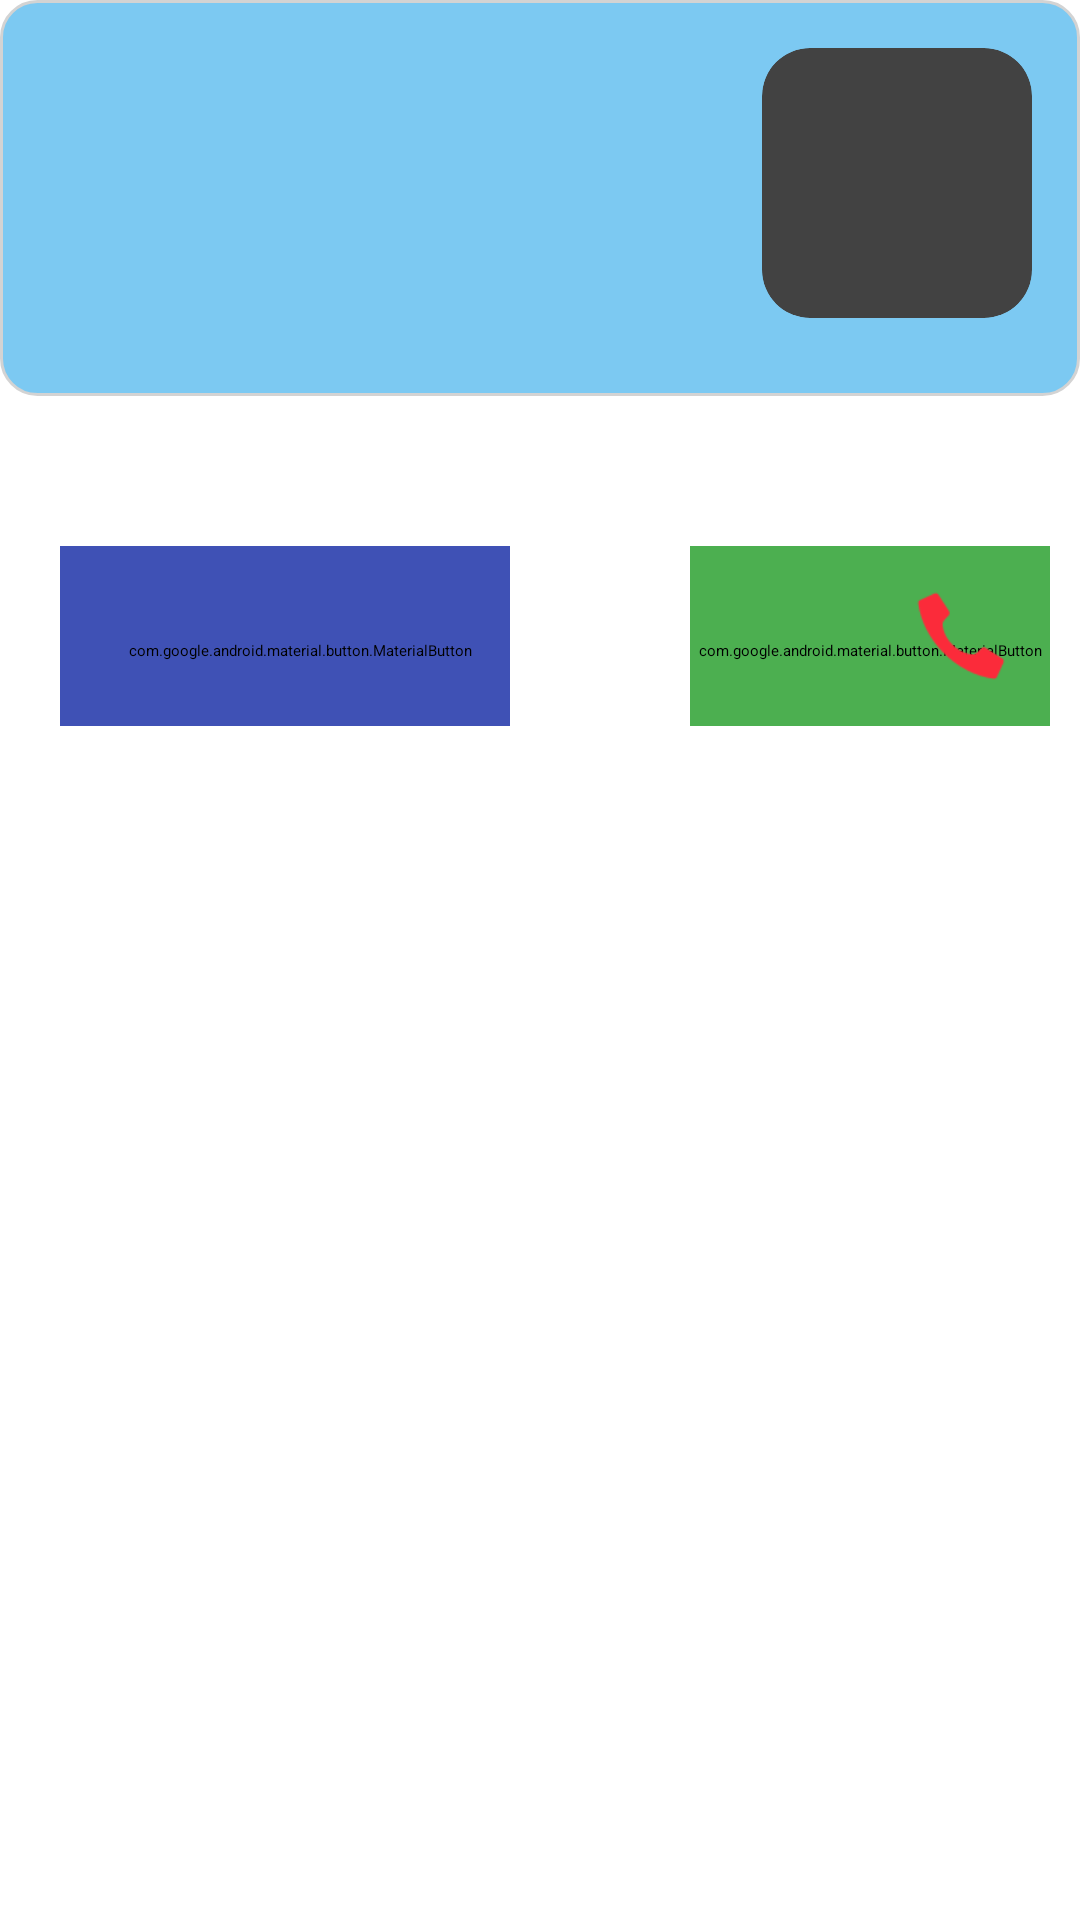

Screen size 1080px×1920px. Icon name, then its center in pixels as [x,y]:
phone: [961,636]
